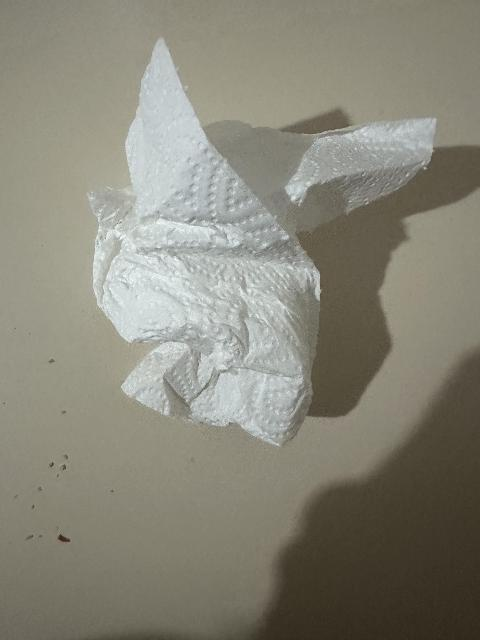Kagit: (88, 38, 439, 449)
